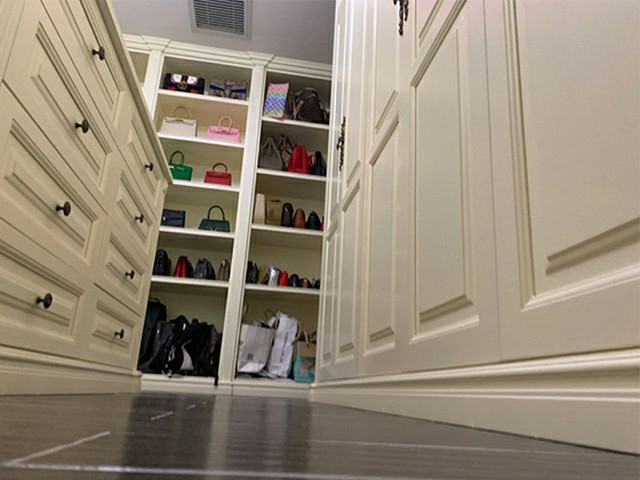cabinet: (123, 1, 640, 452), (1, 1, 172, 394)
